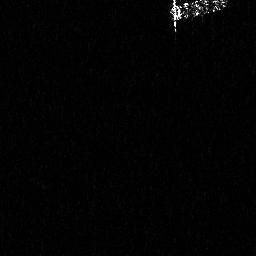ship: (169, 1, 226, 34)
